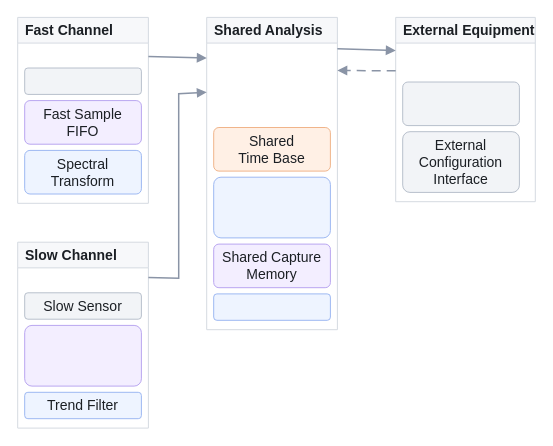
The diagram is 553 pixels wide and 446 high, and some of its shapes have lost their labels. Here are the shapes that lost their labels. From the top down, the centre of each, then its label:
At (x=82, y=80): "Fast ADC".
At (x=460, y=103): "External Analysis Host".
At (x=271, y=207): "Timestamp- Aligned Event Merger".
At (x=271, y=306): "Transfer Engine".
At (x=82, y=355): "Slow Measurement FIFO".
